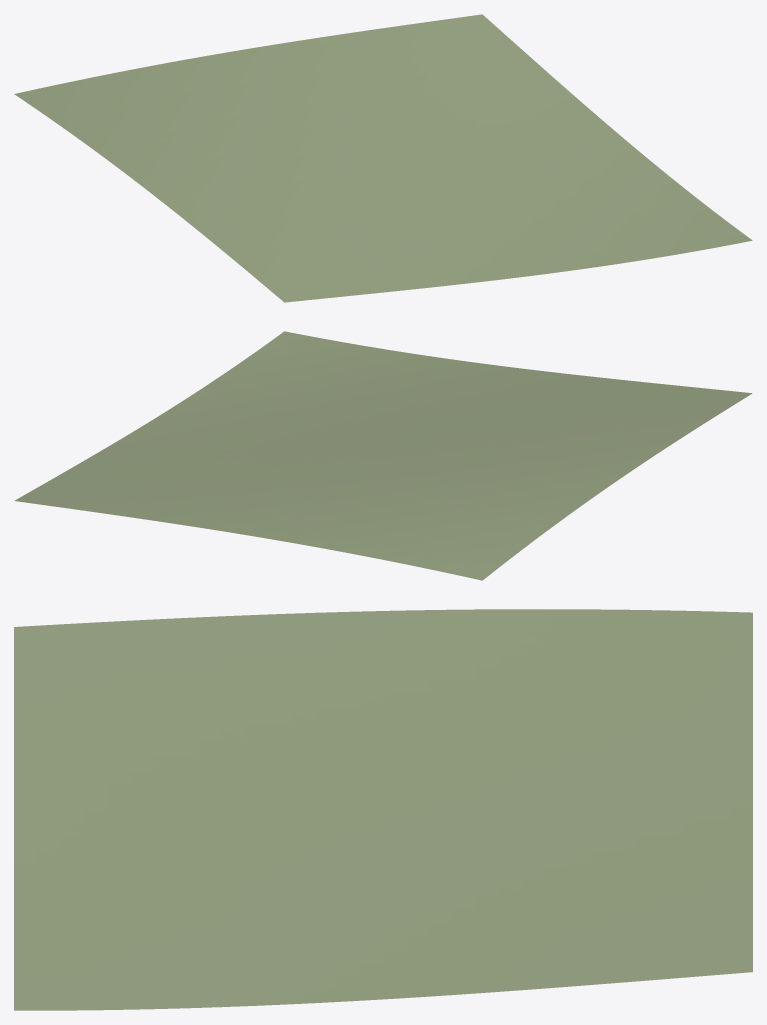
File: alpine-0-14.glb
3 views of the same model, one above another, from view 1: azimuth 30°, elevation 25°; view 2: azimuth 150°, elevation 25°; view 3: azimuth 270°, elevation 25° (orthographic). The views are drawn at different scales.
Visible parts, largest first — view 1: alpine-0-14; view 2: alpine-0-14; view 3: alpine-0-14.
Boxes of the visible parts, bbox=[...] form: alpine-0-14: bbox=[14, 14, 752, 302]; alpine-0-14: bbox=[14, 331, 752, 580]; alpine-0-14: bbox=[14, 609, 752, 1010].
Bounding box in the file's own units: 256 × 34.13 × 256.
